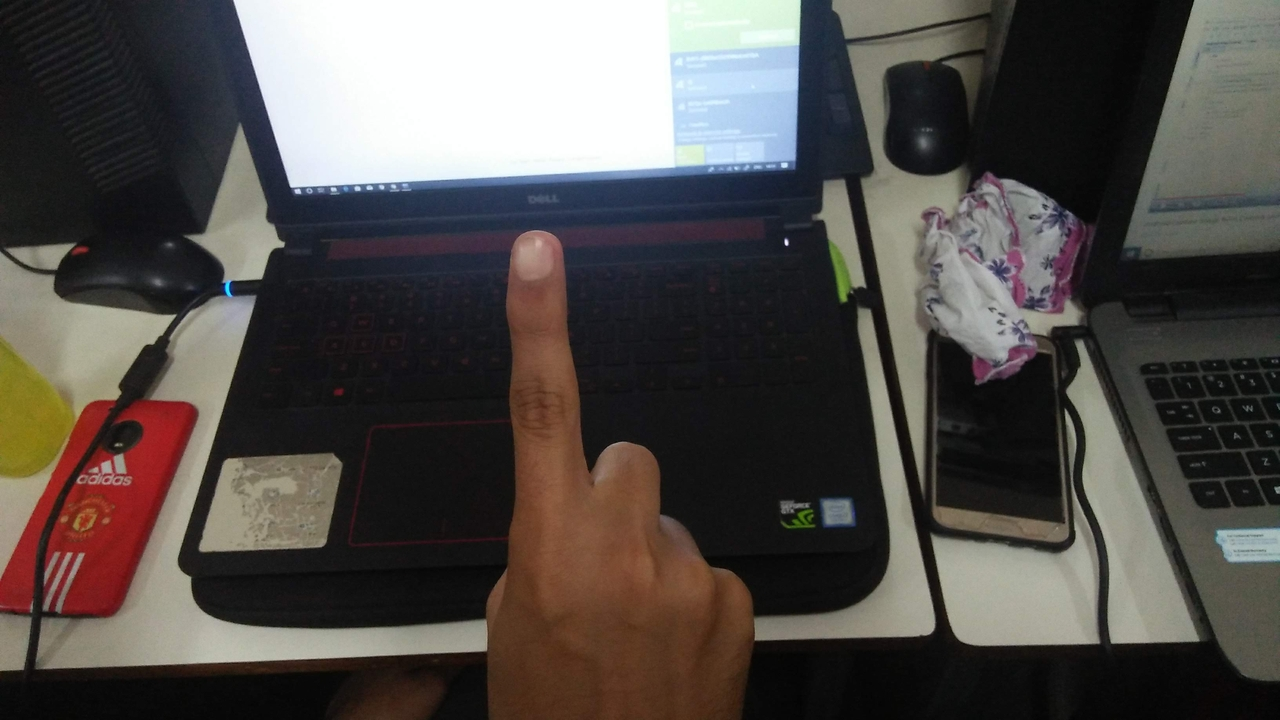fingertip: (500, 222, 568, 292)
